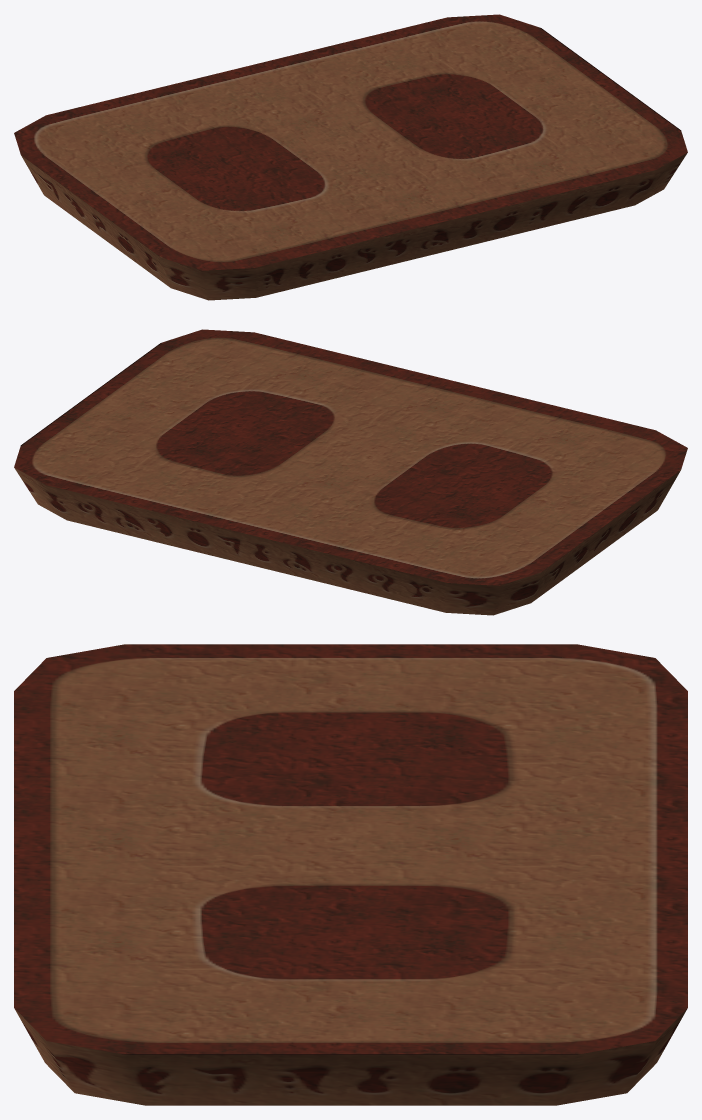
The model's file is pds-plat-rectangle.glb.
3 renders of one model, top to bottom at view 1: azimuth 30°, elevation 25°; view 2: azimuth 150°, elevation 25°; view 3: azimuth 270°, elevation 25°, orthographic. The views are drawn at different scales.
Visible parts, largest first — view 1: pds-plat-rectangle; view 2: pds-plat-rectangle; view 3: pds-plat-rectangle.
Boxes of the visible parts, left/top/right/bottom form: pds-plat-rectangle: left=14, top=14, right=687, bottom=300; pds-plat-rectangle: left=14, top=329, right=687, bottom=615; pds-plat-rectangle: left=14, top=644, right=687, bottom=1105.
Size of the model in its own units: 9.8 by 1.1 by 6.8.
3 materials, 3 textured.
